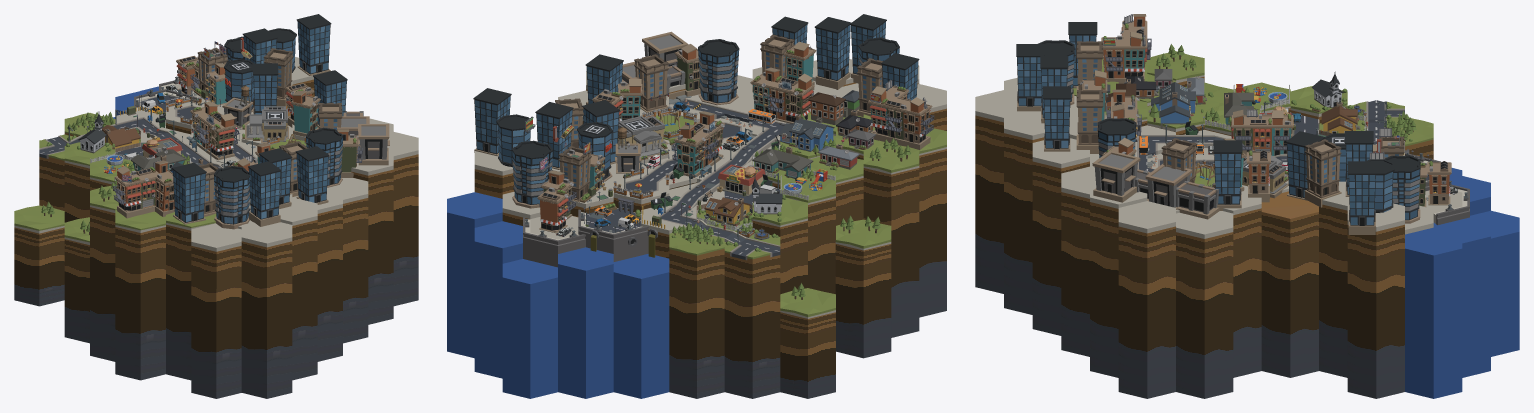
Rendered from cityboyjj-transformed.glb.
3 views of the same model, side by side, from view 1: azimuth 30°, elevation 25°; view 2: azimuth 150°, elevation 25°; view 3: azimuth 270°, elevation 25° (orthographic). The views are drawn at different scales.
Parts seen in each view (by area): view 1: SketchfabCity_PolygonMiniCity_01_0, SketchfabCity_Water_0; view 2: SketchfabCity_PolygonMiniCity_01_0, SketchfabCity_Water_0; view 3: SketchfabCity_PolygonMiniCity_01_0, SketchfabCity_Water_0.
Part boxes in pixels (box(x1,y1,x2,y2)): SketchfabCity_PolygonMiniCity_01_0: box(14, 14, 418, 398); SketchfabCity_Water_0: box(113, 86, 158, 118); SketchfabCity_PolygonMiniCity_01_0: box(473, 14, 946, 398); SketchfabCity_Water_0: box(447, 192, 669, 398); SketchfabCity_PolygonMiniCity_01_0: box(975, 14, 1469, 398); SketchfabCity_Water_0: box(1405, 168, 1519, 398).
Size of the model in its own units: 36.22 by 22.65 by 47.5.
3 materials, 3 textured.
